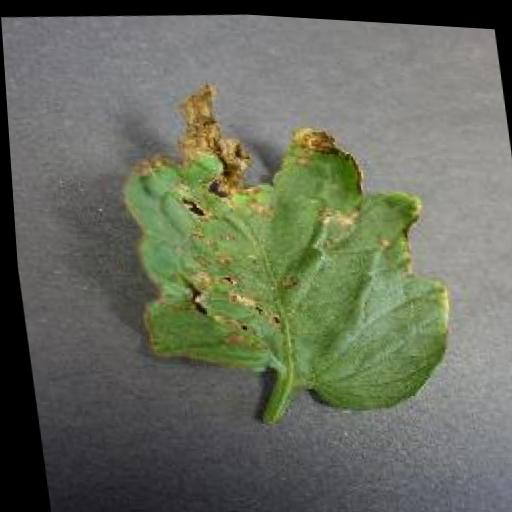Bacterial Spot: (84, 47, 478, 452)
